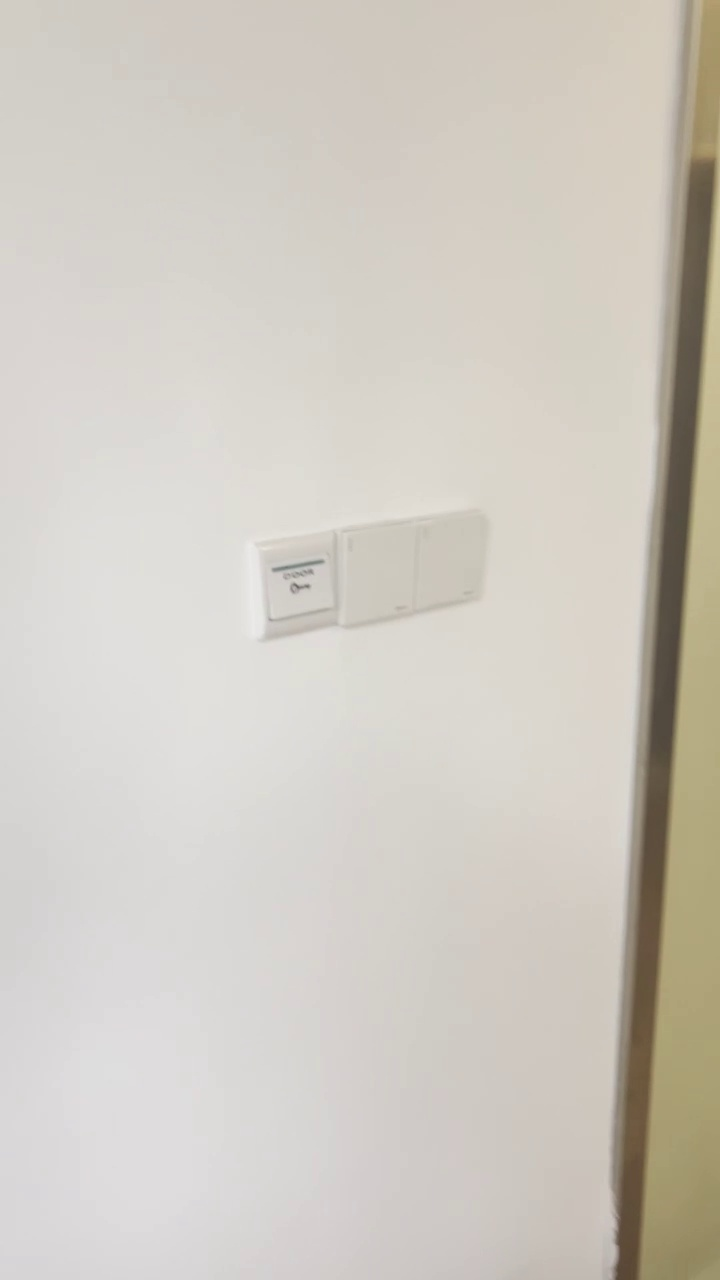button: (331, 513, 422, 629), (411, 504, 488, 611)
